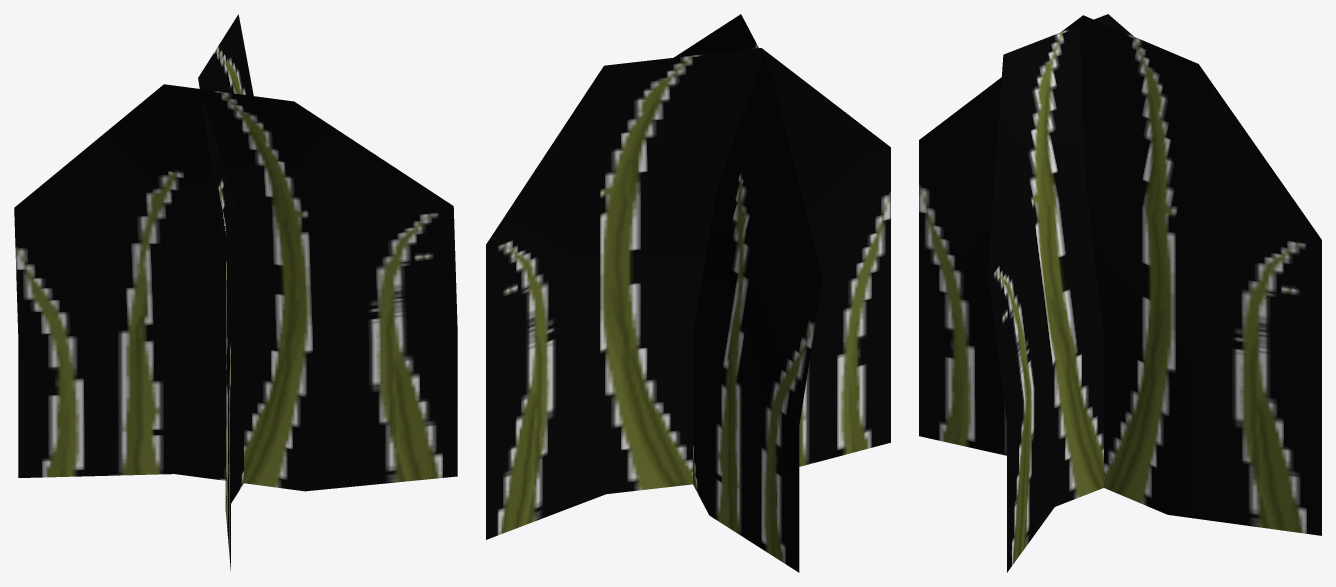
The model's file is grass01.fbx.
The picture shows the model from 3 angles, left to right: view 1: azimuth 30°, elevation 25°; view 2: azimuth 150°, elevation 25°; view 3: azimuth 270°, elevation 25°; orthographic projection. The views are drawn at different scales.
Parts seen in each view (by area): view 1: Grass01, Grass01.001; view 2: Grass01.001, Grass01; view 3: Grass01.001, Grass01.
Boxes of the visible parts, x1,y1,x2,y2 form: Grass01: [14, 84, 457, 491]; Grass01.001: [198, 14, 253, 570]; Grass01.001: [486, 48, 890, 539]; Grass01: [674, 14, 822, 572]; Grass01.001: [919, 15, 1321, 535]; Grass01: [988, 14, 1133, 572].
Bounding box in the file's own units: 36.96 × 43.69 × 35.89.
